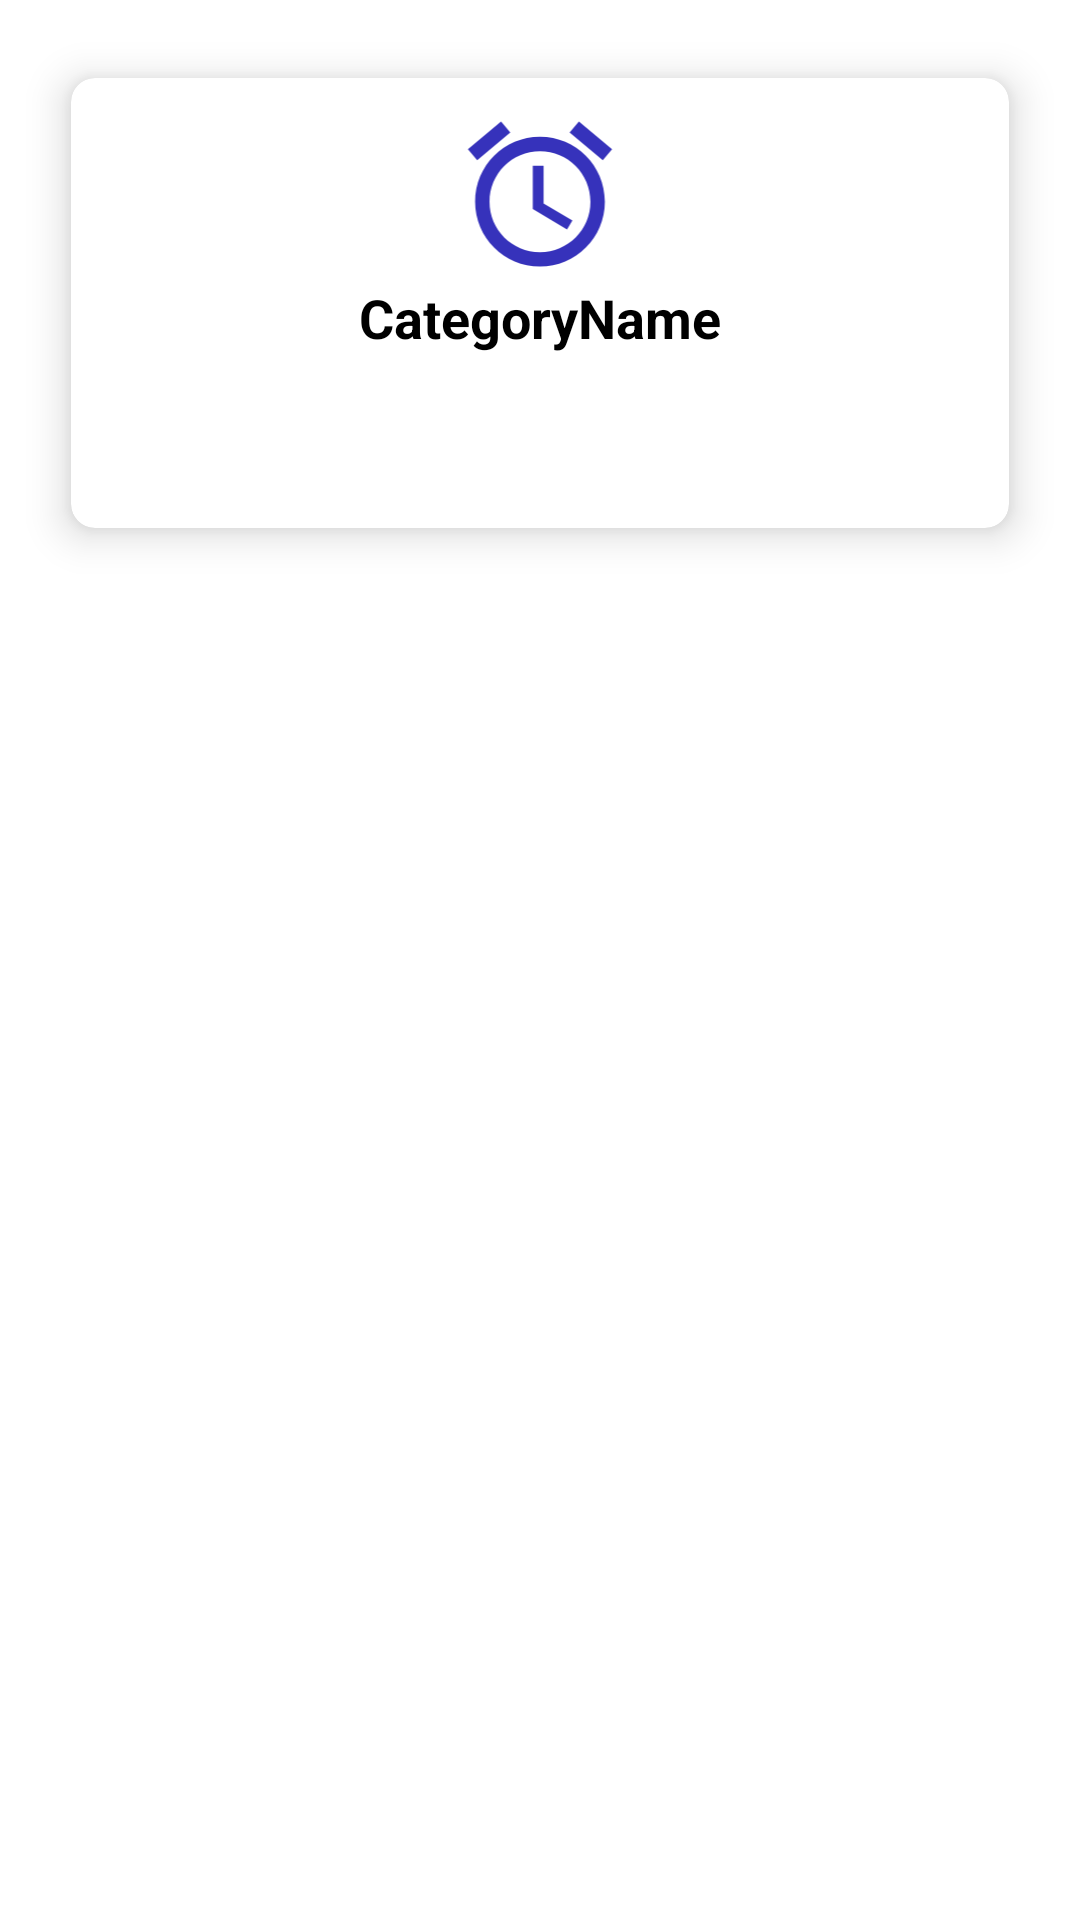

Icon click points for this 1080w x 1920h phone screenshot, format point (x, y):
alarm: point (540, 194)
